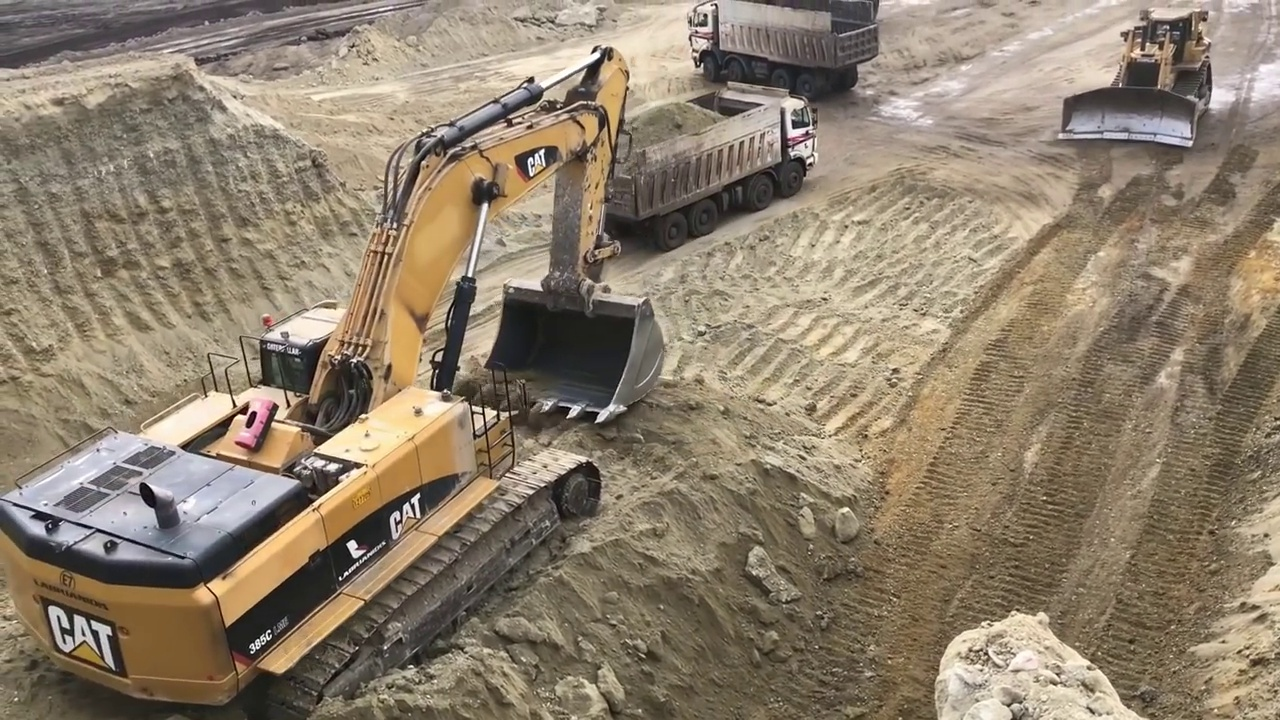bulldozer: (1059, 5, 1212, 151)
excavator: (3, 48, 668, 708)
truck: (577, 80, 816, 255), (686, 1, 879, 97)
